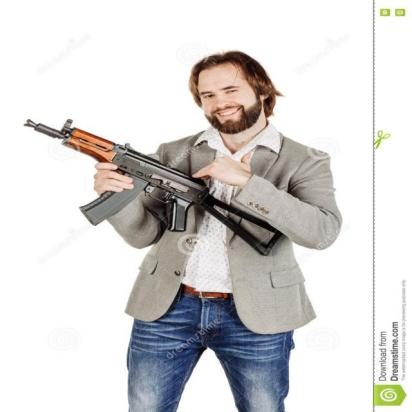Gun: (23, 111, 286, 258)
